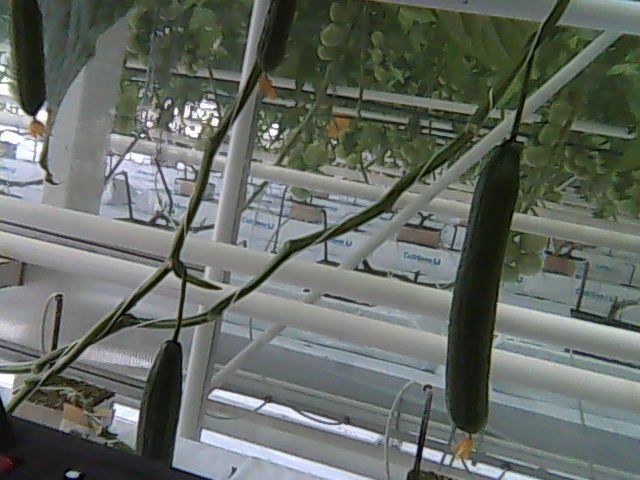concombre: (443, 134, 527, 466), (134, 336, 186, 480), (10, 1, 49, 140), (252, 1, 305, 99)
